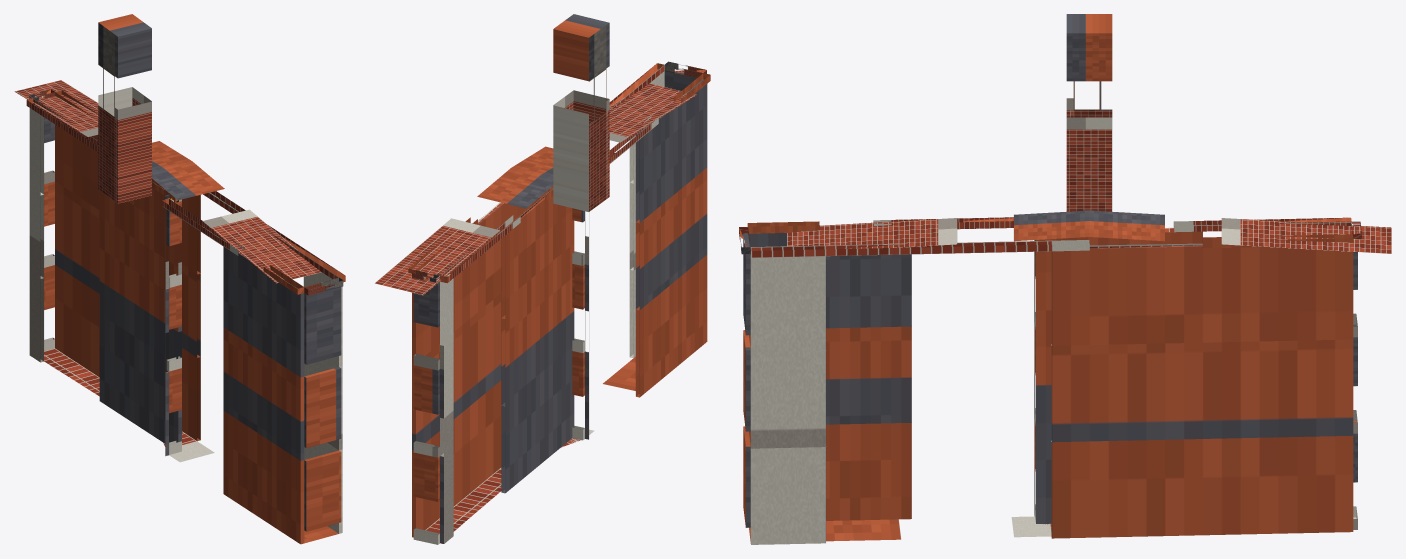
3 views of the same model, side by side, from view 1: azimuth 30°, elevation 25°; view 2: azimuth 150°, elevation 25°; view 3: azimuth 270°, elevation 25° (orthographic). The views are drawn at different scales.
Visible parts, largest first — view 1: 1107171193__wall_3_xb, 1107171193__wall_5_xb, 1107171193__wall_1_xb, 1107171193__chimney_0_xb, 1107171193__wall_2_xb, 1107171193_roof_-1_xb, 1107171193_roof_1_xb, 1107171193__wall_4_xb, 1107171193__base, 1107171193__wall_0_xb, 1107171193__cornice_1, 1107171193__cornice_3 (+1 smaller); view 2: 1107171193__wall_5_xb, 1107171193__wall_3_xb, 1107171193__wall_1_xb, 1107171193__chimney_0_xb, 1107171193_roof_1_xb, 1107171193__wall_0_xb, 1107171193_roof_-1_xb, 1107171193__base, 1107171193__wall_4_xb, 1107171193__cornice_5, 1107171193__cornice_1, 1107171193__cornice_3 (+1 smaller); view 3: 1107171193__wall_1_xb, 1107171193__wall_3_xb, 1107171193__chimney_0_xb, 1107171193_roof_1_xb, 1107171193_roof_-1_xb, 1107171193__wall_5_xb, 1107171193__cornice_1, 1107171193__base, 1107171193__wall_2_xb, 1107171193__cornice_3, 1107171193__cornice_5, 1107171193__wall_0_xb.
Part boxes in pixels (x1,y1,x2,y2): 1107171193__wall_3_xb: (165, 209, 304, 544); 1107171193__wall_5_xb: (29, 105, 181, 443); 1107171193__wall_1_xb: (55, 124, 342, 533); 1107171193__chimney_0_xb: (98, 14, 151, 203); 1107171193__wall_2_xb: (304, 285, 341, 531); 1107171193_roof_-1_xb: (152, 161, 321, 283); 1107171193_roof_1_xb: (14, 80, 191, 170); 1107171193__wall_4_xb: (166, 201, 181, 454); 1107171193__base: (44, 348, 338, 543); 1107171193__wall_0_xb: (44, 117, 54, 351); 1107171193__cornice_1: (55, 90, 345, 282); 1107171193__cornice_3: (162, 199, 304, 294); 1107171193__wall_5_xb: (440, 189, 574, 543); 1107171193__wall_3_xb: (585, 79, 707, 439); 1107171193__wall_1_xb: (412, 71, 664, 537); 1107171193__chimney_0_xb: (553, 14, 609, 211); 1107171193_roof_1_xb: (374, 168, 553, 295); 1107171193__wall_0_xb: (413, 282, 439, 544); 1107171193_roof_-1_xb: (511, 83, 696, 177); 1107171193__base: (425, 356, 635, 533); 1107171193__wall_4_xb: (572, 208, 584, 440); 1107171193__cornice_5: (440, 186, 553, 283); 1107171193__cornice_1: (408, 63, 664, 273); 1107171193__cornice_3: (609, 73, 710, 163); 1107171193__wall_1_xb: (750, 245, 1353, 544); 1107171193__wall_3_xb: (749, 233, 1034, 520); 1107171193__chimney_0_xb: (1066, 14, 1112, 211); 1107171193_roof_1_xb: (1089, 210, 1391, 253); 1107171193_roof_-1_xb: (787, 210, 1089, 248); 1107171193__wall_5_xb: (1035, 231, 1202, 523); 1107171193__cornice_1: (750, 234, 1353, 257); 1107171193__base: (749, 516, 1051, 541); 1107171193__wall_2_xb: (743, 233, 750, 527); 1107171193__cornice_3: (747, 217, 1013, 233); 1107171193__cornice_5: (1165, 217, 1351, 232); 1107171193__wall_0_xb: (1353, 252, 1357, 529).
Bounding box in the file's own units: 0.3994 × 1.75 × 2.15.
Materials: 1 (1 with a texture image).
